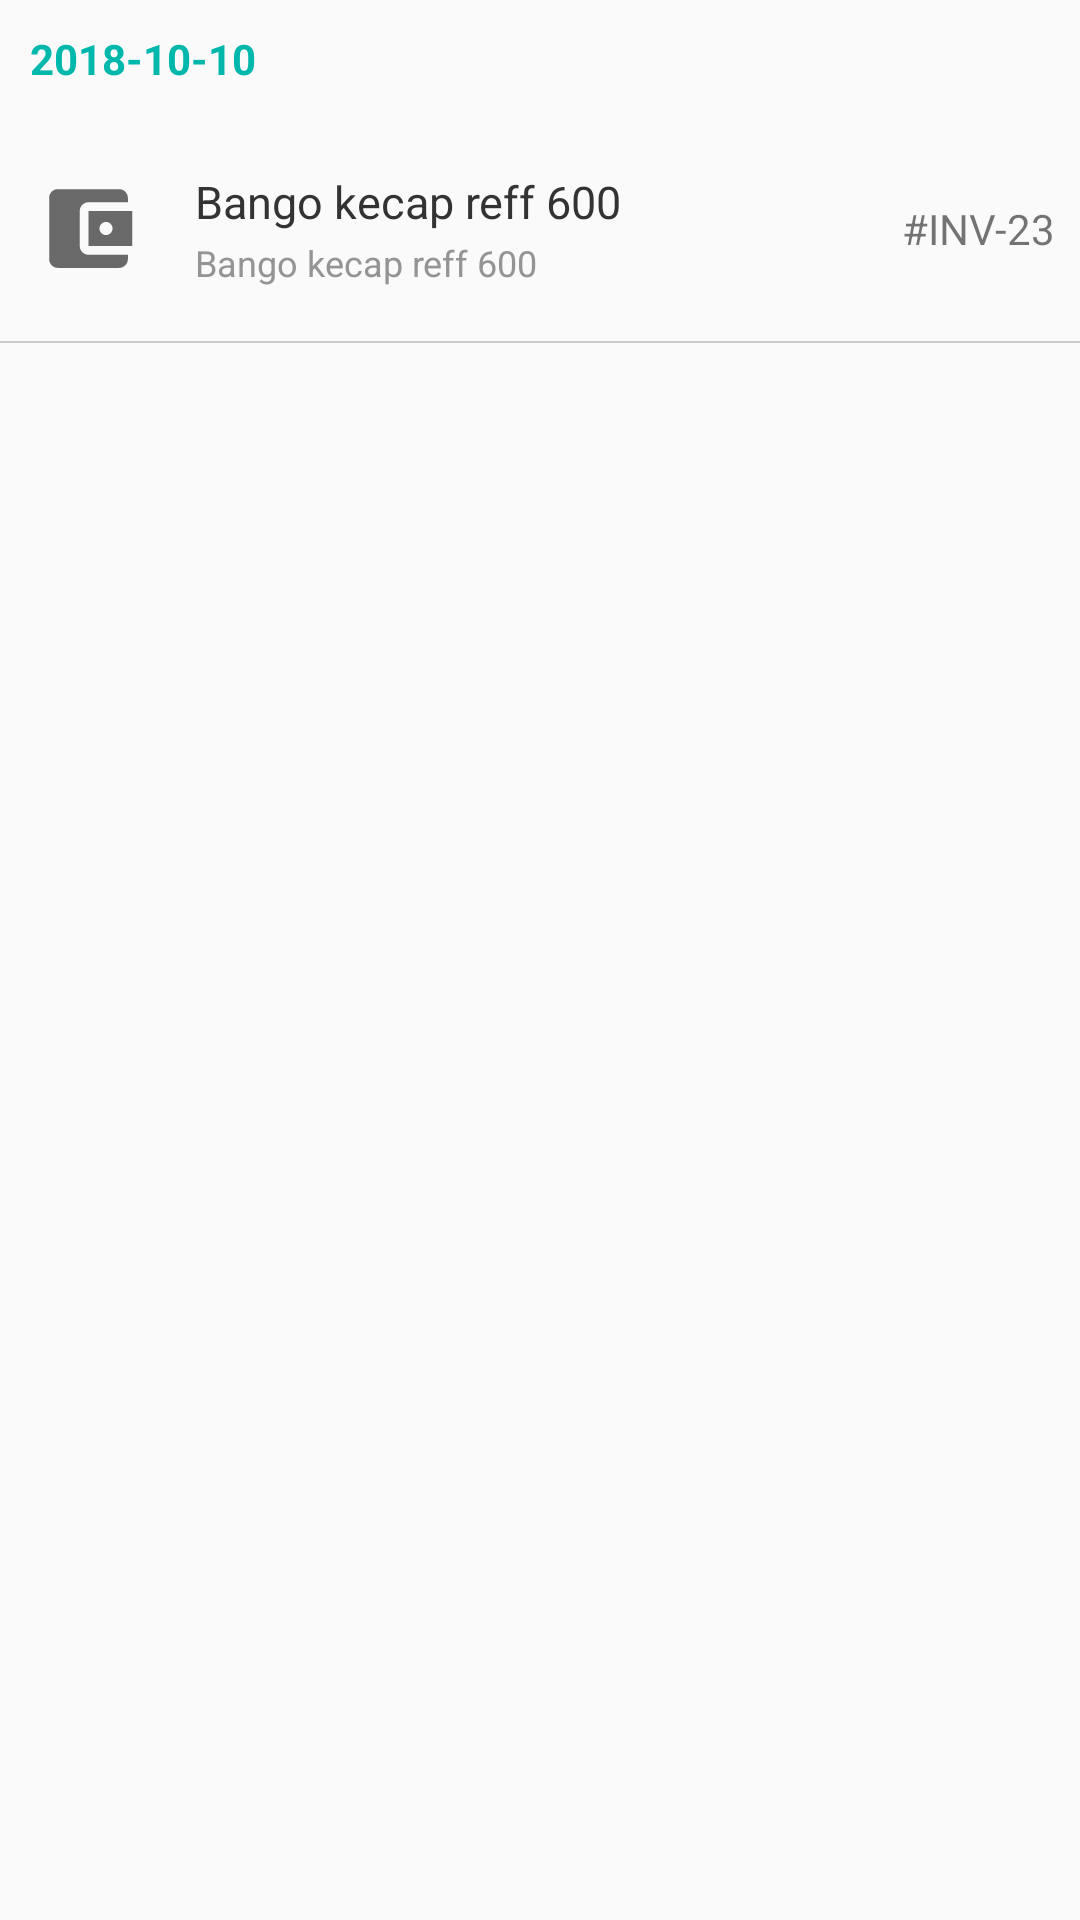

Where to tap for icons on this 1080 × 1920 app screen, as (x,y):
wallet: (91,228)
